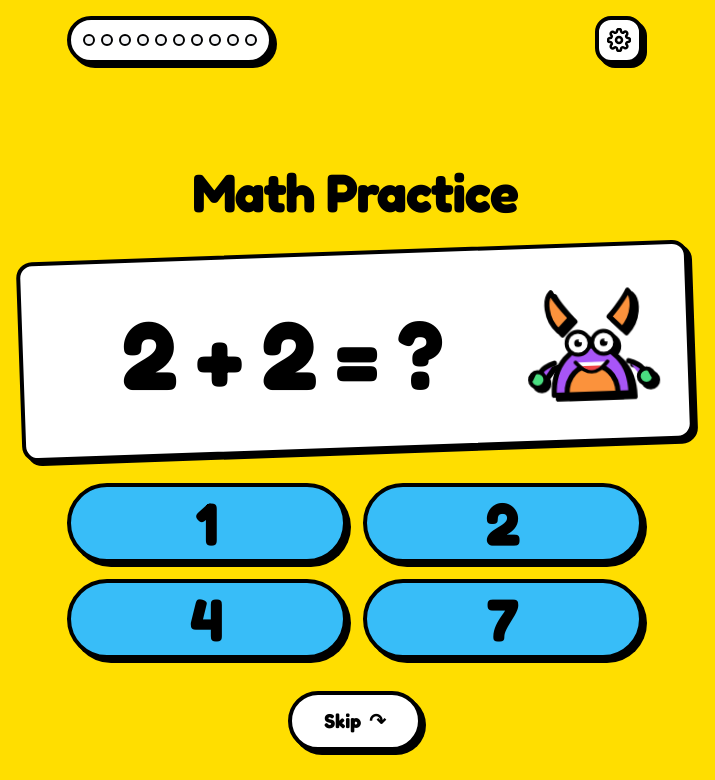
Test: Home Page answer feedback › counts a streak only for first-try answers
The image size is (715, 780).
Later steps or results of the test are not shown.
Click the button "4": click(207, 619) [67,579,347,659]
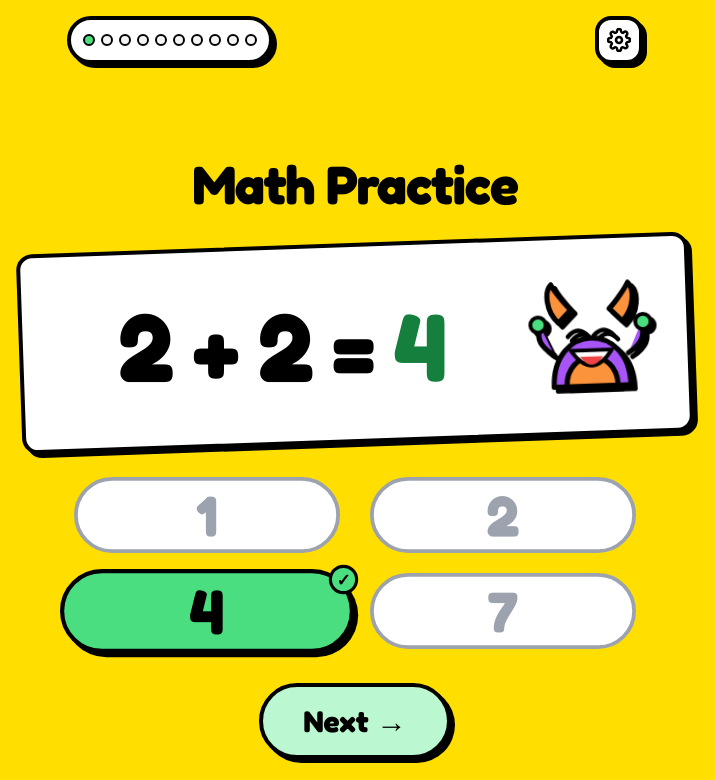
Click the button with test id "advance-button": click(355, 721) [259,683,451,759]
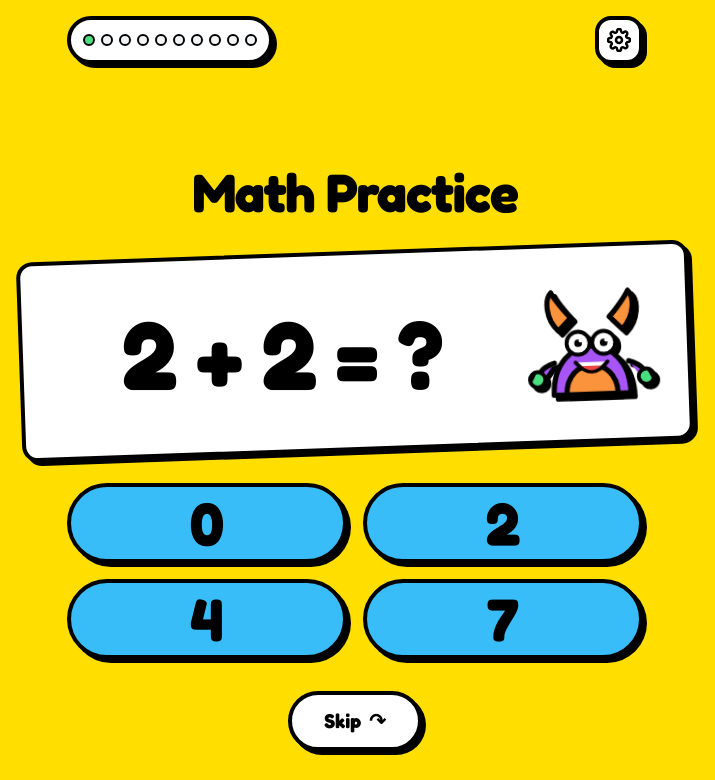
Click the button "4": click(207, 619) [67,579,347,659]
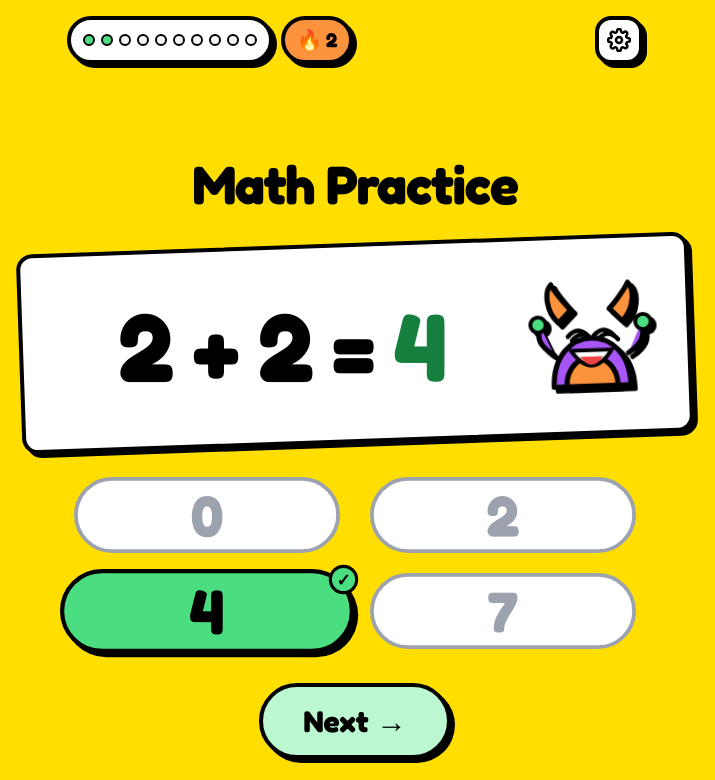
Expected: the picture with test id "streak-badge" shows "2", [326,28,337,52]
